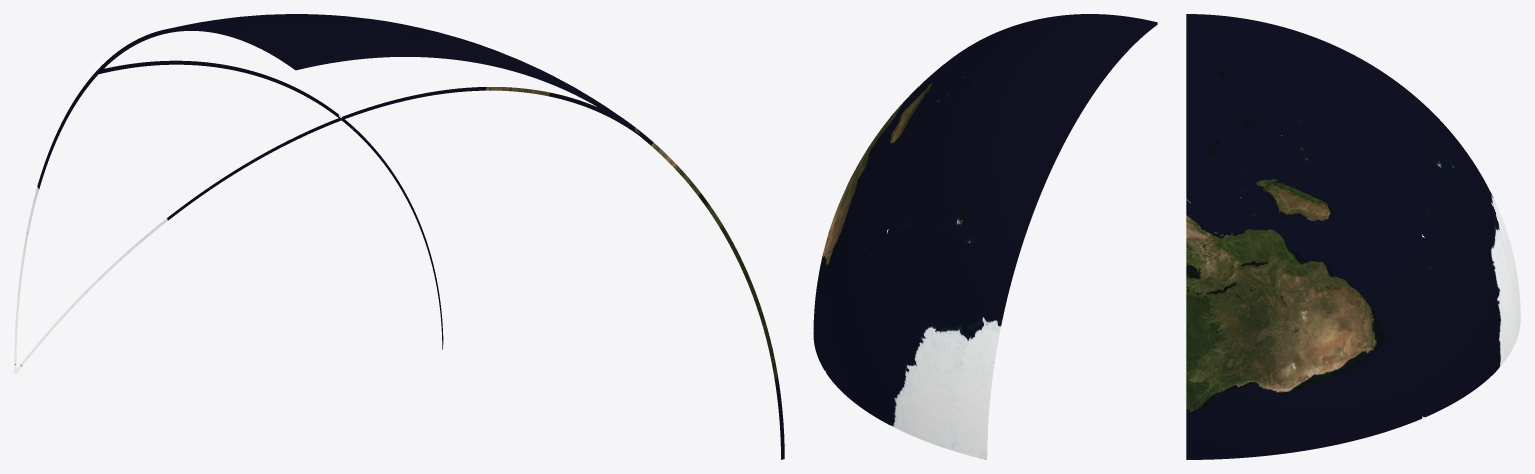
3 renders of one model, left to right at view 1: azimuth 30°, elevation 25°; view 2: azimuth 150°, elevation 25°; view 3: azimuth 270°, elevation 25°, orthographic. The views are drawn at different scales.
Visible parts, largest first — view 1: DefaultName.009, DefaultName.012, DefaultName.006, DefaultName.003; view 2: DefaultName.009, DefaultName.006, DefaultName.003, DefaultName.012; view 3: DefaultName.012, DefaultName.009, DefaultName.003, DefaultName.006.
Boxes of the visible parts, <box> form: DefaultName.009: <box>97,14,641,135</box>; DefaultName.012: <box>341,87,784,459</box>; DefaultName.006: <box>14,60,341,373</box>; DefaultName.003: <box>16,118,443,373</box>; DefaultName.009: <box>885,14,1157,229</box>; DefaultName.006: <box>887,196,1036,459</box>; DefaultName.003: <box>825,230,985,459</box>; DefaultName.012: <box>813,73,933,370</box>; DefaultName.012: <box>1186,203,1422,459</box>; DefaultName.009: <box>1186,14,1422,236</box>; DefaultName.003: <box>1422,237,1520,418</box>; DefaultName.006: <box>1422,103,1520,313</box>.
Size of the model in its own units: 63781 by 63781 by 63568.
Materials: 4 (4 with a texture image).
